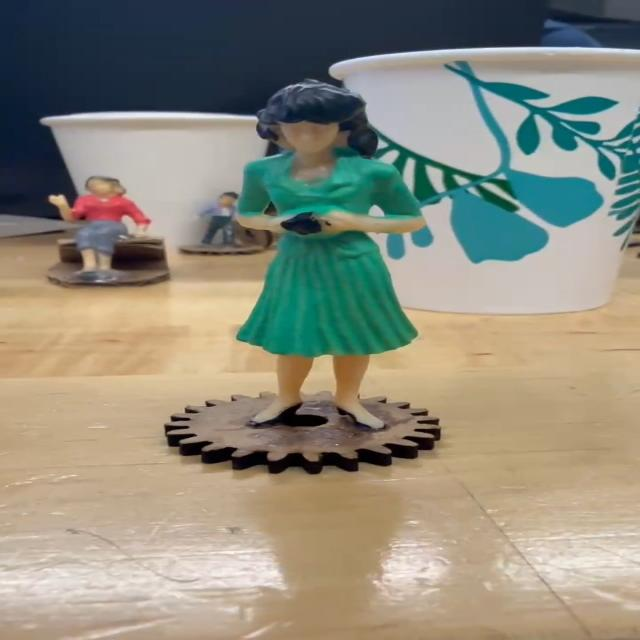Authorized: (182, 65, 473, 435)
